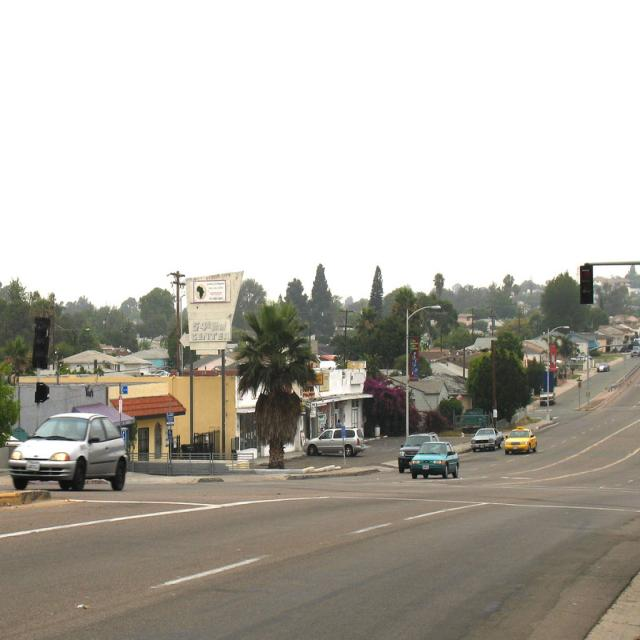car: (0, 407, 133, 506), (406, 439, 460, 479), (472, 427, 502, 453), (506, 425, 536, 451), (596, 361, 609, 372), (629, 345, 639, 354)
